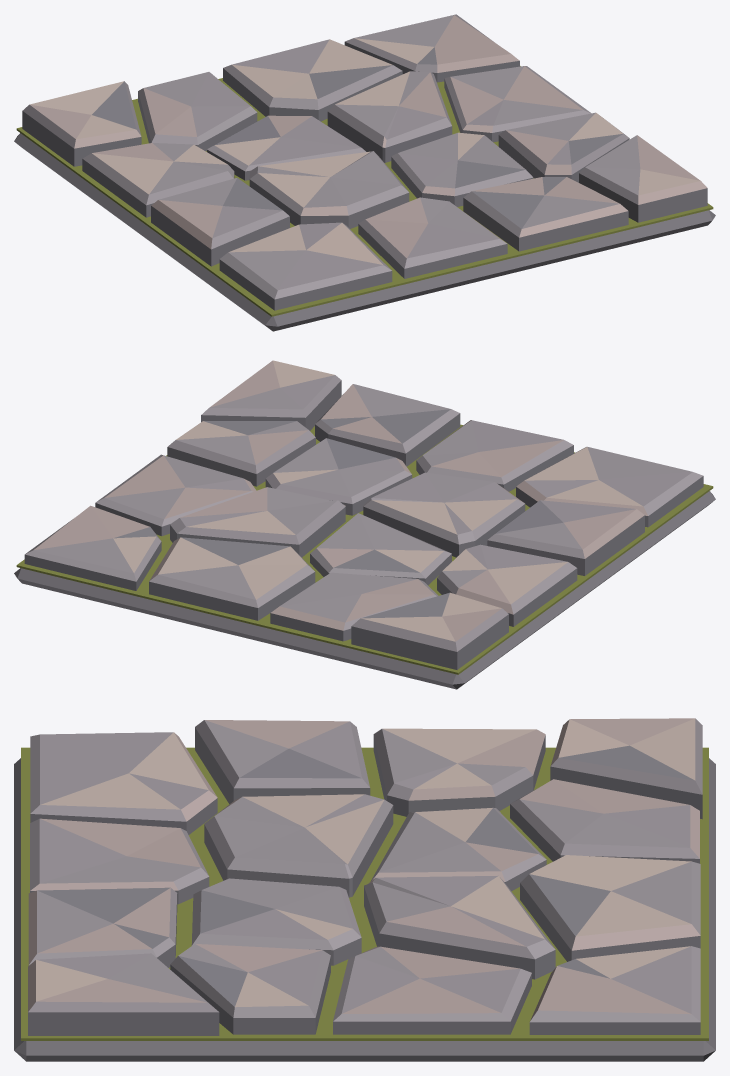
File: fantasy-stone-paving-tile.glb
The picture shows the model from 3 angles, top to bottom: view 1: azimuth 30°, elevation 25°; view 2: azimuth 150°, elevation 25°; view 3: azimuth 270°, elevation 25°; orthographic projection. The views are drawn at different scales.
Visible parts, largest first — view 1: FantasyStonePavingTile; view 2: FantasyStonePavingTile; view 3: FantasyStonePavingTile.
Part boxes in pixels (left/top/right/bottom): FantasyStonePavingTile: left=14, top=14, right=715, bottom=331; FantasyStonePavingTile: left=14, top=360, right=715, bottom=689; FantasyStonePavingTile: left=14, top=718, right=715, bottom=1061.
Size of the model in its own units: 2 by 0.1893 by 2.
